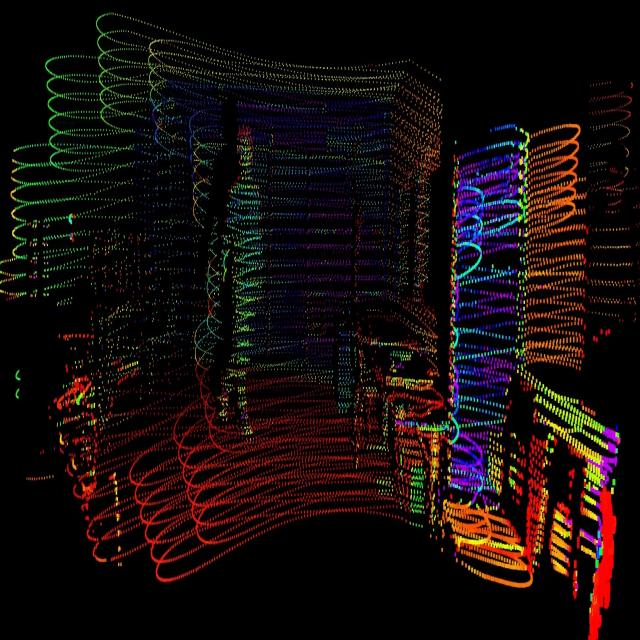human: (217, 120, 268, 442)
